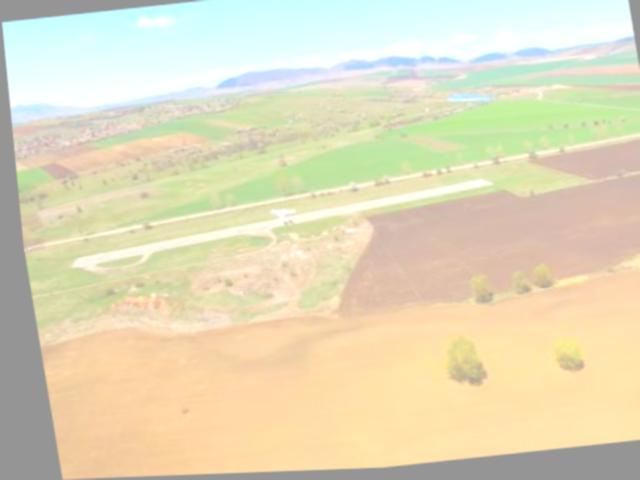uav: (261, 198, 295, 230)
